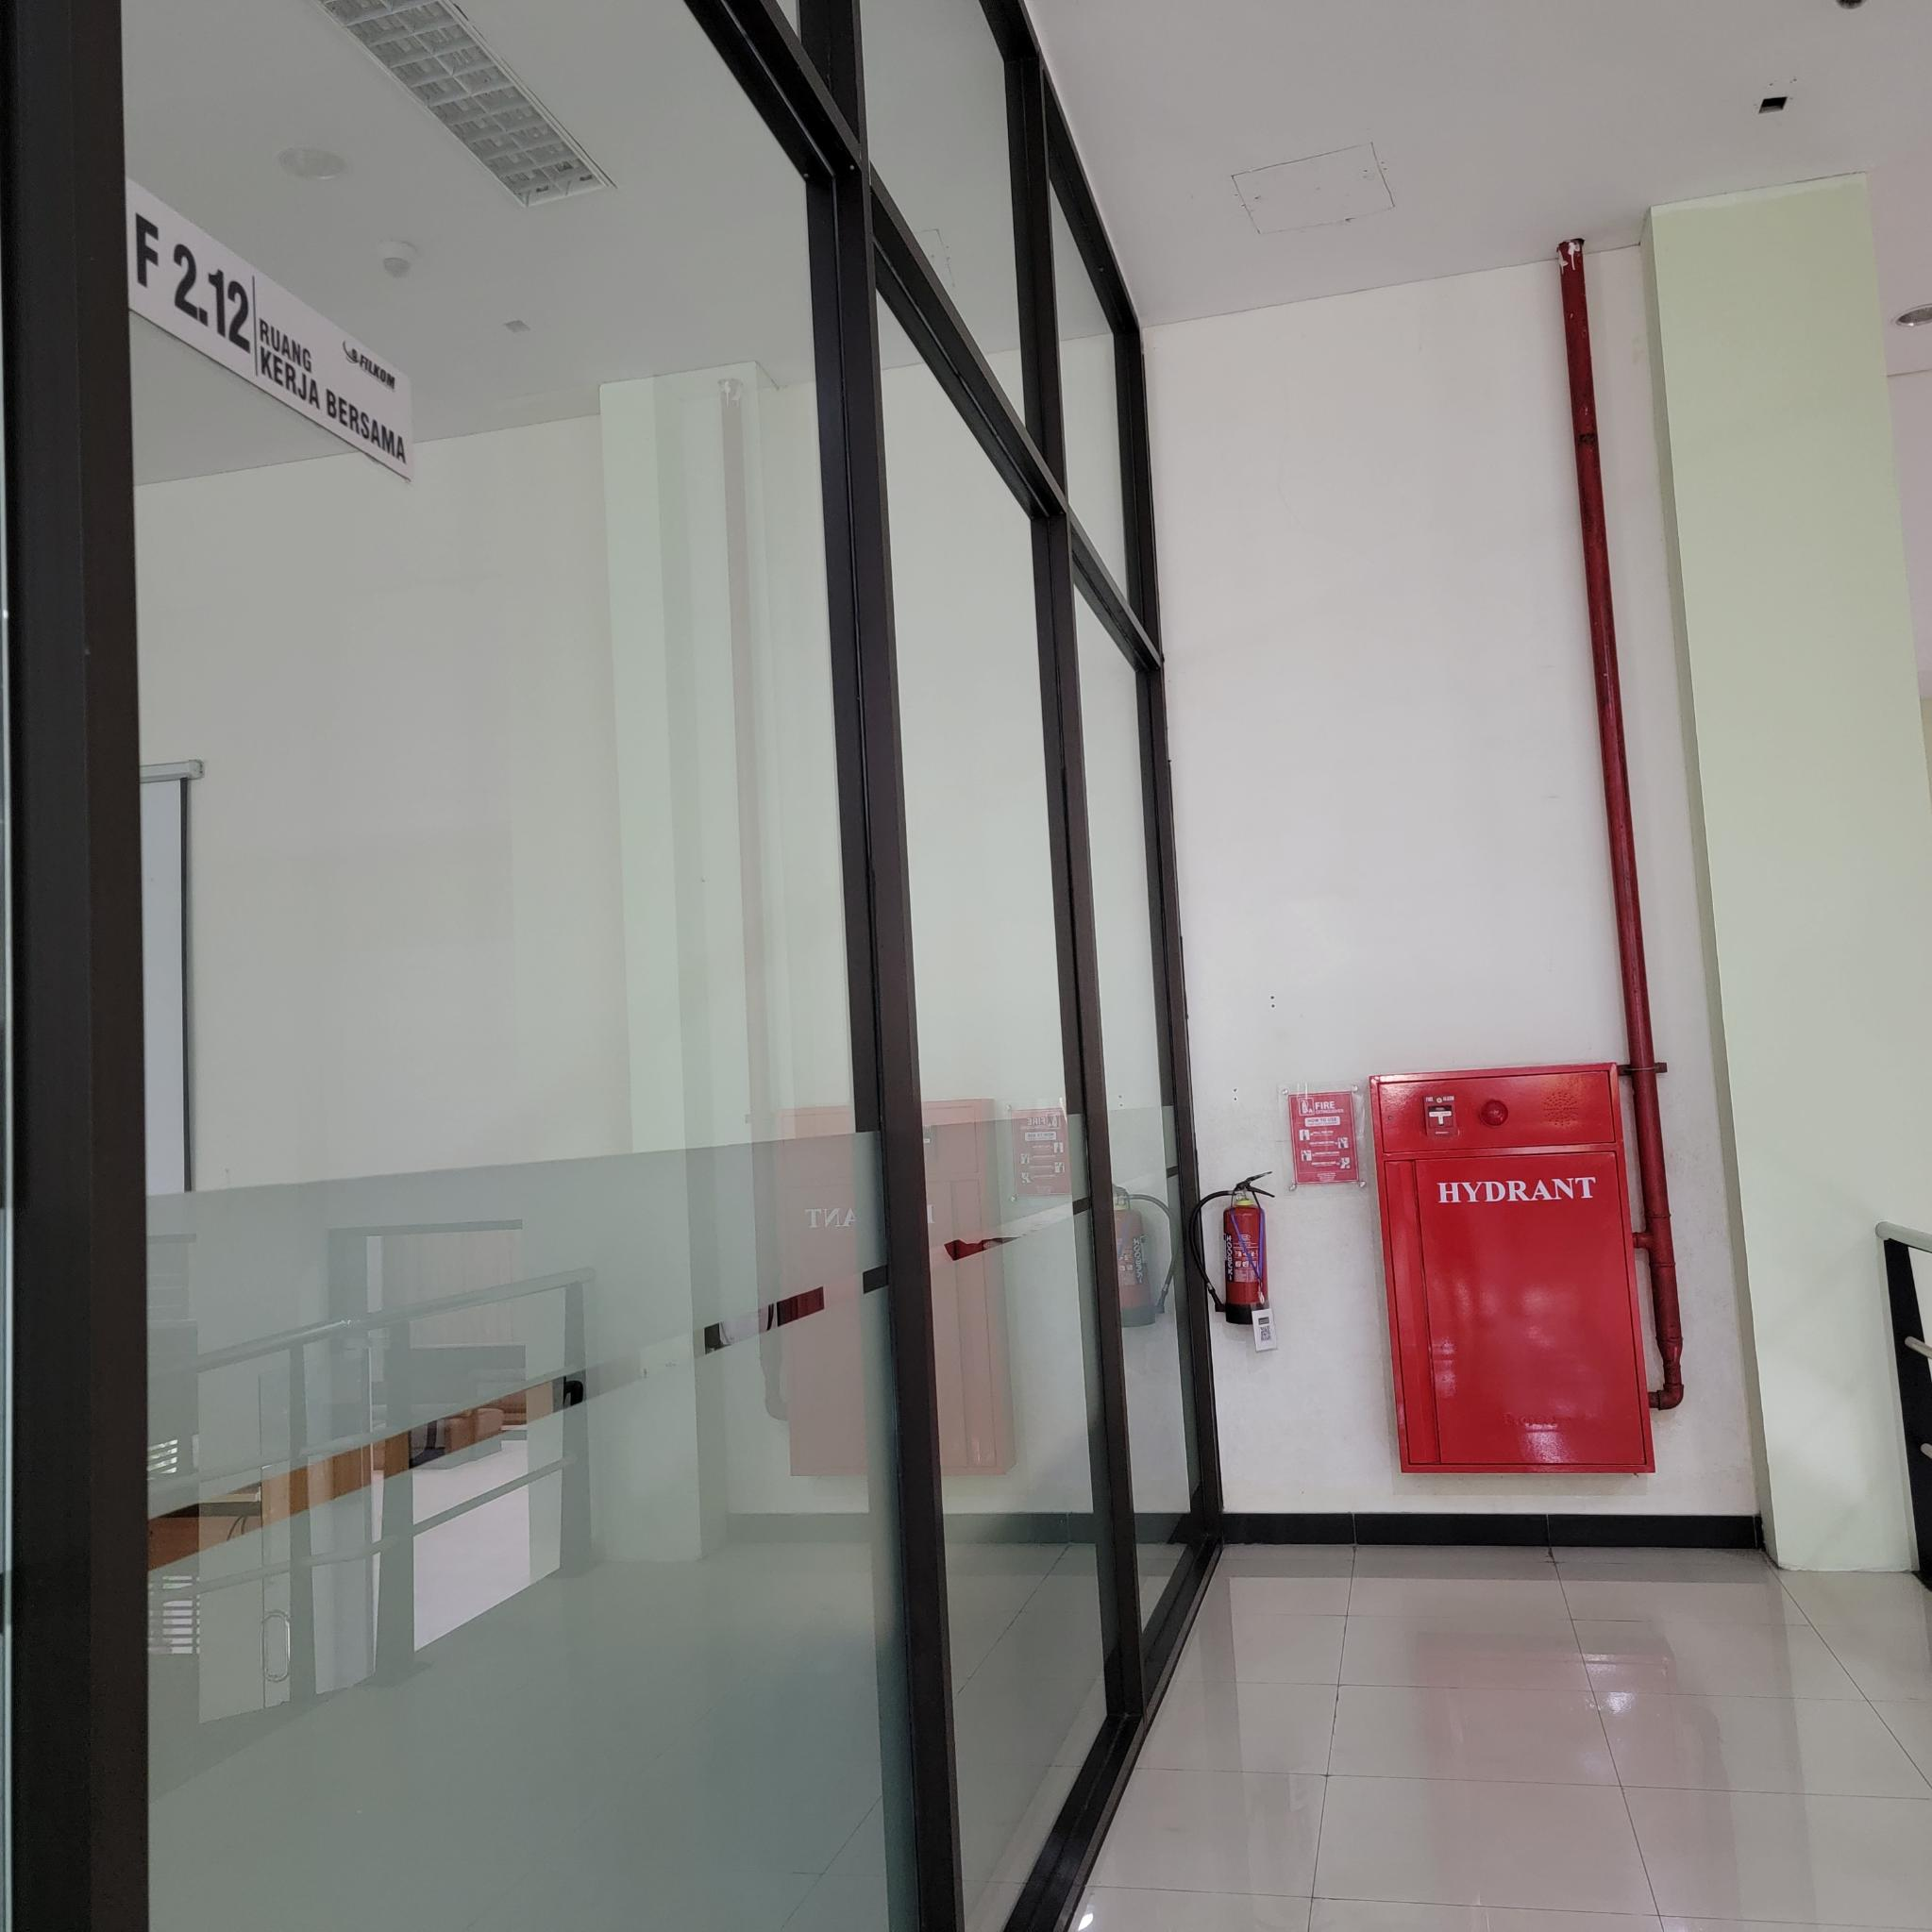plate: (127, 173, 414, 488)
